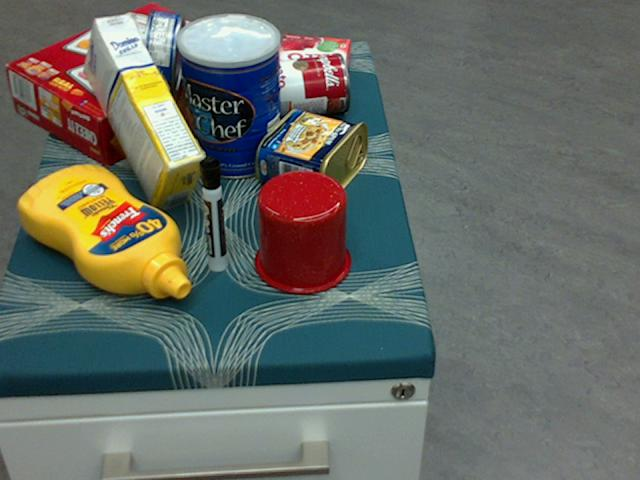cracker_box: (7, 4, 244, 167)
gelatin_box: (272, 36, 350, 84)
large_marker: (198, 155, 226, 270)
master_chef_can: (177, 13, 282, 178)
mug: (252, 168, 350, 293)
mustard_bottle: (18, 165, 190, 297)
potted_meat_can: (255, 106, 367, 204)
sugar_box: (84, 14, 208, 210)
tomato_soup_can: (252, 52, 349, 119)
tuna_fish_can: (141, 8, 184, 94)
